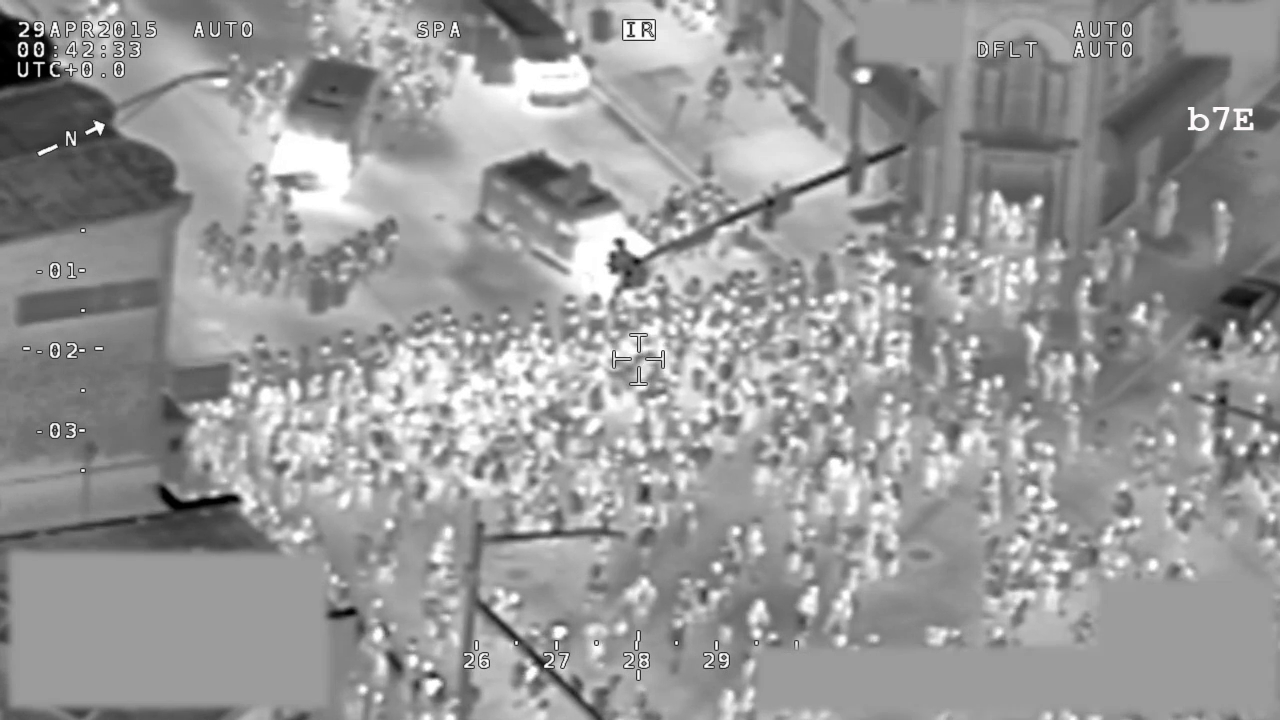vehicle: (471, 137, 660, 306), (253, 52, 390, 212), (462, 1, 595, 117), (1173, 270, 1280, 364)
